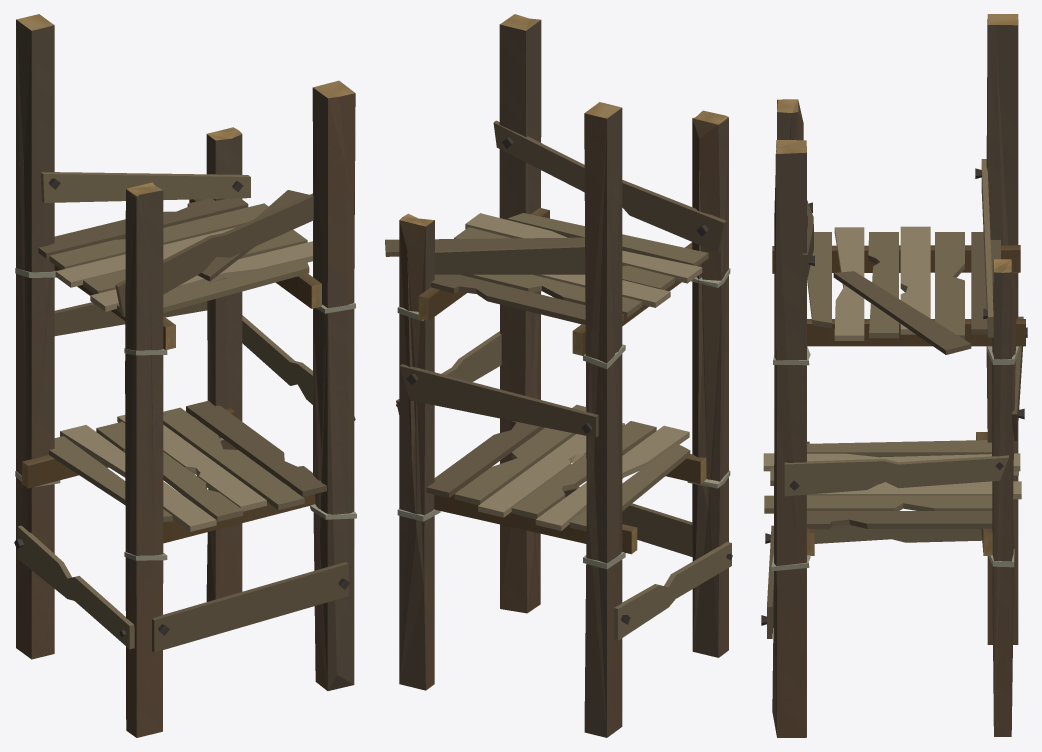
The model's file is Scaffold_1.fbx.
The picture shows the model from 3 angles, left to right: view 1: azimuth 30°, elevation 25°; view 2: azimuth 150°, elevation 25°; view 3: azimuth 270°, elevation 25°; orthographic projection.
Parts seen in each view (by area): view 1: polySurface9787; view 2: polySurface9787; view 3: polySurface9787.
Part boxes in pixels (<box>): polySurface9787: <box>14,14,356,737</box>; polySurface9787: <box>385,14,732,737</box>; polySurface9787: <box>761,14,1027,737</box>.
Size of the model in its own units: 346 by 763 by 297.
